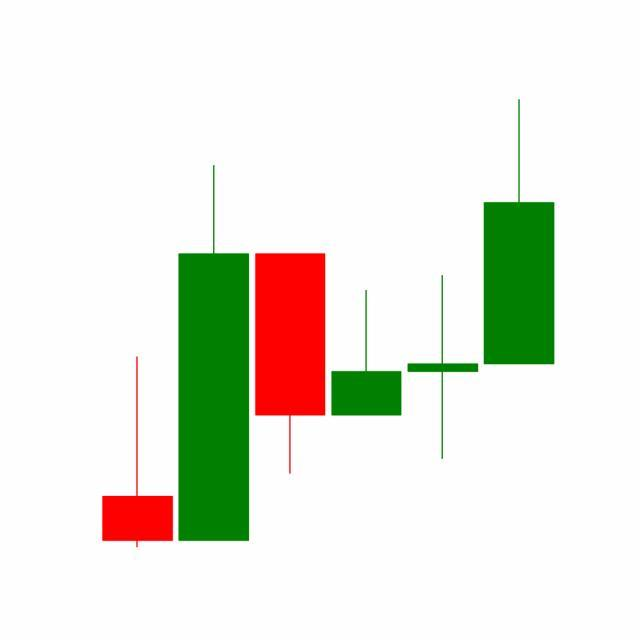Spinning Top: (404, 275, 482, 463)
